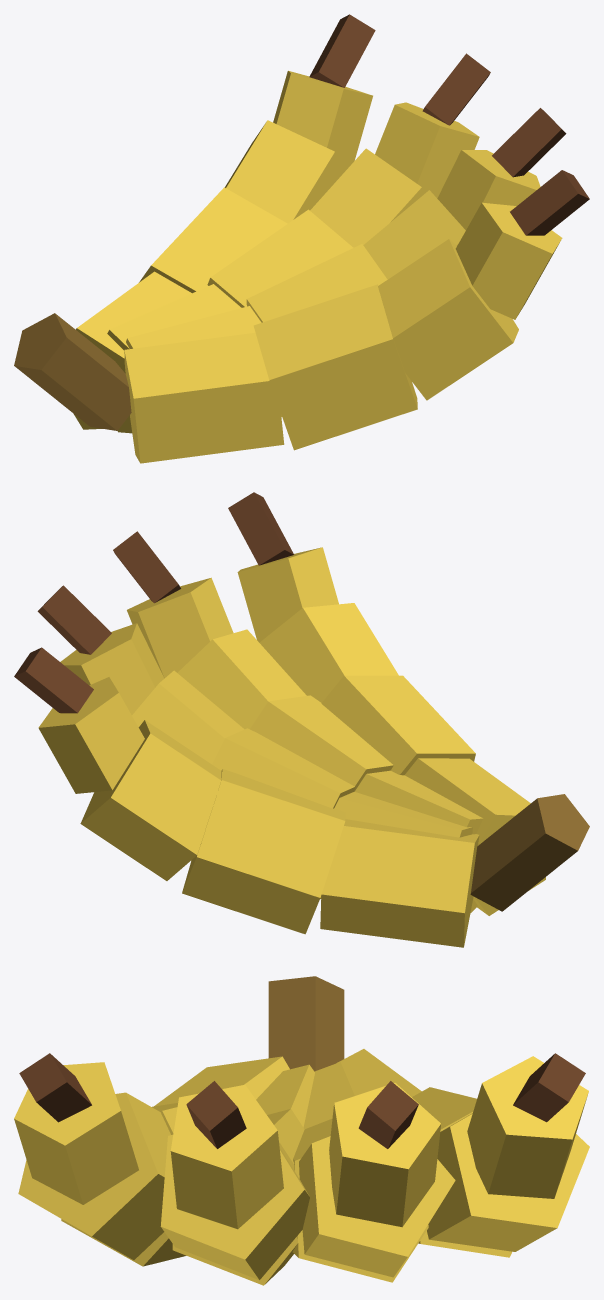
The model's file is bananas.glb.
3 renders of one model, top to bottom at view 1: azimuth 30°, elevation 25°; view 2: azimuth 150°, elevation 25°; view 3: azimuth 270°, elevation 25°, orthographic. The views are drawn at different scales.
Visible parts, largest first — view 1: bananas; view 2: bananas; view 3: bananas.
Part boxes in pixels (box(x1,y1,x2,y2)): bananas: box(14, 14, 589, 463); bananas: box(14, 492, 589, 947); bananas: box(14, 976, 589, 1285).
Bounding box in the file's own units: 0.1337 × 0.0689 × 0.1103.
